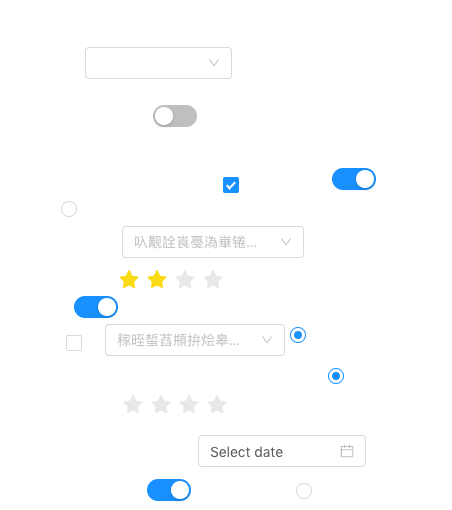Checkbox: (223, 174, 239, 195), (66, 332, 82, 353)
DatePicker: (198, 435, 366, 467)
Radio: (296, 480, 312, 500), (61, 198, 77, 218), (290, 324, 306, 344), (328, 365, 344, 385)
Rate: (123, 388, 243, 420), (119, 263, 239, 295)
Select: (122, 226, 304, 258), (105, 324, 285, 356), (85, 47, 232, 79)
Switch: (153, 104, 197, 128), (332, 167, 376, 191), (147, 478, 191, 502), (74, 295, 118, 319)
